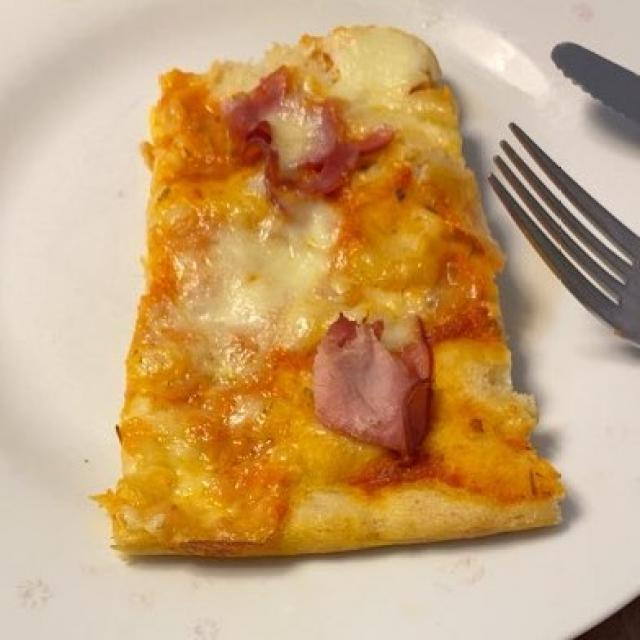pizza: (107, 35, 554, 556)
